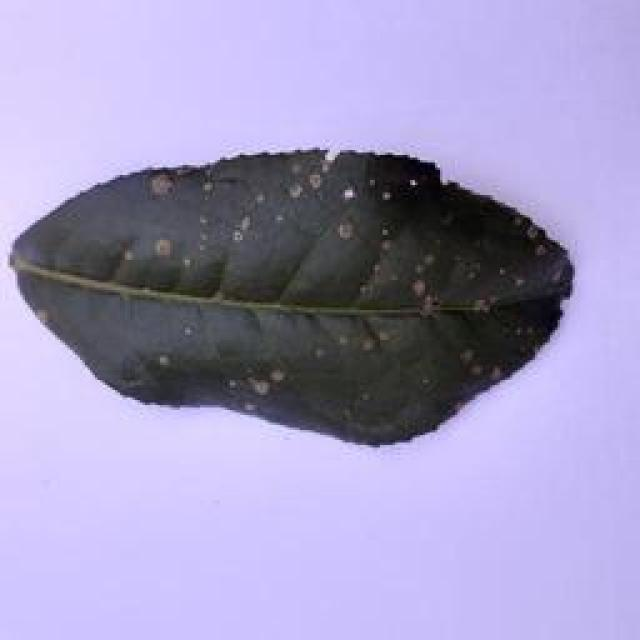Algal Leaf Spot: (11, 135, 586, 459)
